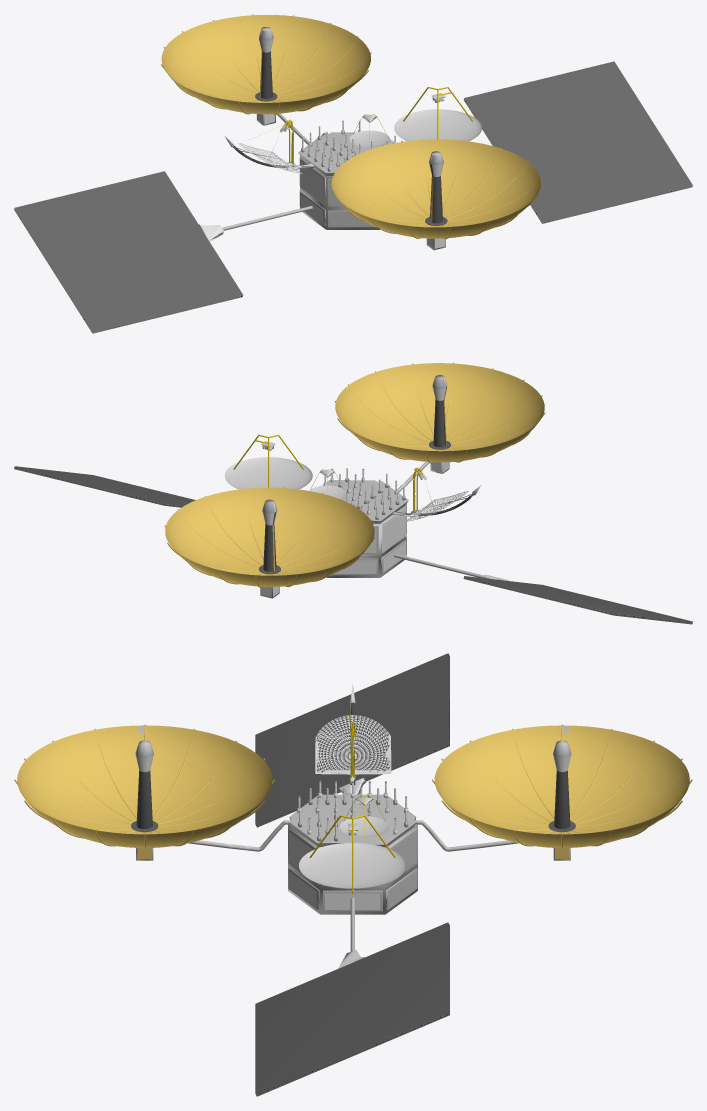
The model's file is tdrs-gen1.glb.
The picture shows the model from 3 angles, top to bottom: view 1: azimuth 30°, elevation 25°; view 2: azimuth 150°, elevation 25°; view 3: azimuth 270°, elevation 25°; orthographic projection. The views are drawn at different scales.
Visible parts, largest first — view 1: Fake; view 2: Fake; view 3: Fake.
Part boxes in pixels (bbox=[...]): Fake: bbox=[14, 14, 692, 333]; Fake: bbox=[14, 362, 692, 624]; Fake: bbox=[14, 653, 692, 1096].
Size of the model in its own units: 94.44 by 21.24 by 75.45.
